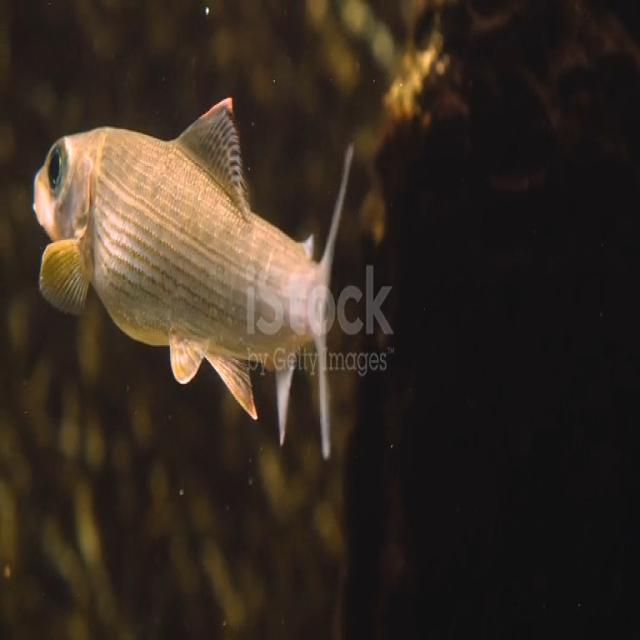fish: (31, 96, 356, 464)
